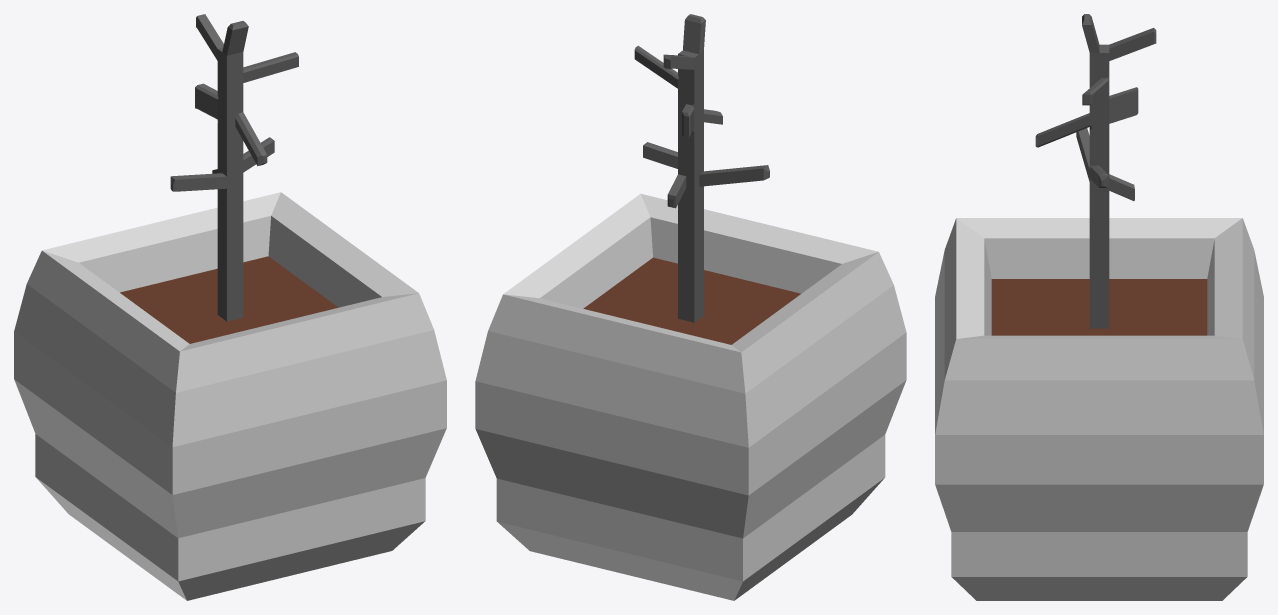
Rendered from dead_plant.fbx.
The picture shows the model from 3 angles, left to right: view 1: azimuth 30°, elevation 25°; view 2: azimuth 150°, elevation 25°; view 3: azimuth 270°, elevation 25°; orthographic projection. The views are drawn at different scales.
Parts seen in each view (by area): view 1: Cube.005; view 2: Cube.005; view 3: Cube.005.
Part boxes in pixels (bbox=[...]): Cube.005: bbox=[14, 14, 446, 600]; Cube.005: bbox=[475, 14, 906, 600]; Cube.005: bbox=[935, 14, 1263, 600].
Size of the model in its own units: 108 by 193 by 108.
